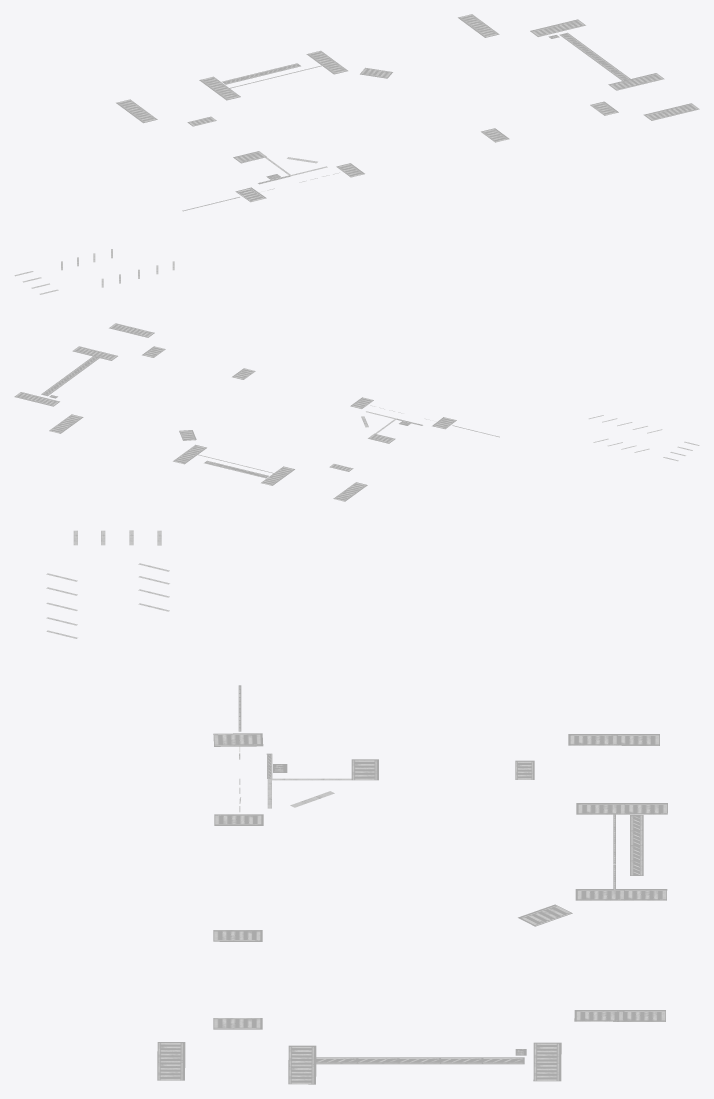
The model's file is StreetMarking.gltf.
3 renders of one model, top to bottom at view 1: azimuth 30°, elevation 25°; view 2: azimuth 150°, elevation 25°; view 3: azimuth 270°, elevation 25°, orthographic. The views are drawn at different scales.
Size of the model in its own units: 182 by 0.05 by 86.46.
